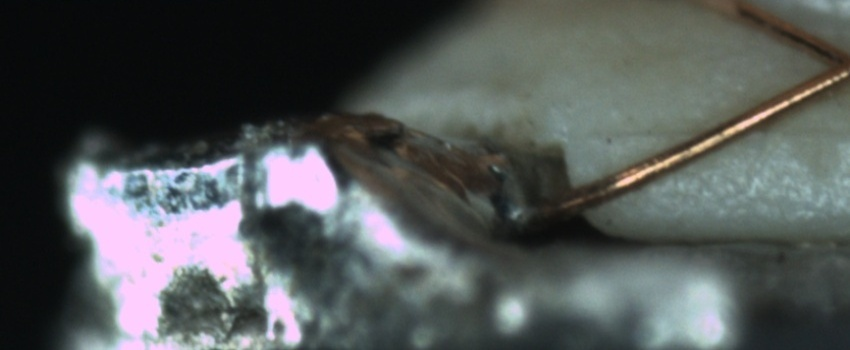CL: (800, 24, 850, 98)
DL: (625, 101, 849, 165)
